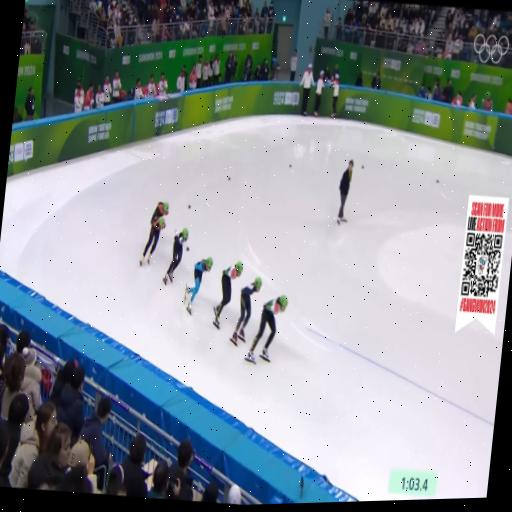Skater: (245, 296, 288, 363), (230, 277, 262, 345), (214, 262, 243, 328), (140, 202, 168, 266), (184, 257, 213, 314), (163, 228, 189, 285)
